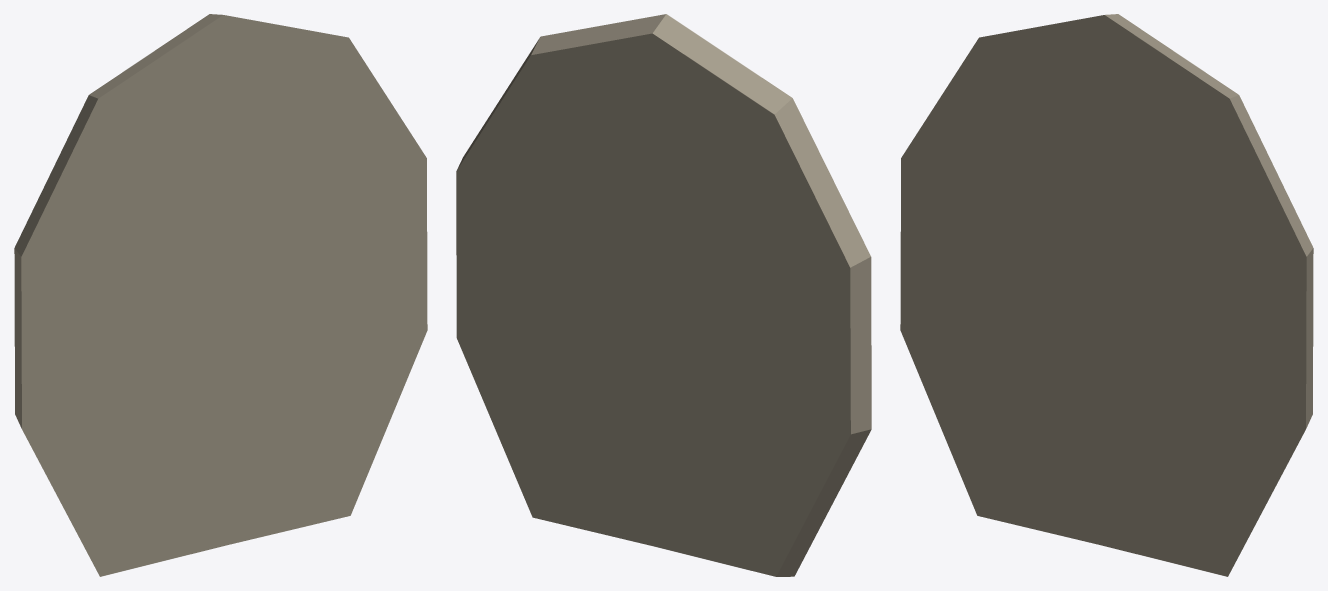
Rendered from SM_Prop_Toilet_01_Lid.glb.
3 views of the same model, side by side, from view 1: azimuth 30°, elevation 25°; view 2: azimuth 150°, elevation 25°; view 3: azimuth 330°, elevation 25° (orthographic).
Parts seen in each view (by area): view 1: SM_Prop_Toilet_01_Lid; view 2: SM_Prop_Toilet_01_Lid; view 3: SM_Prop_Toilet_01_Lid.
Boxes of the visible parts, bbox=[...] form: SM_Prop_Toilet_01_Lid: bbox=[14, 14, 427, 576]; SM_Prop_Toilet_01_Lid: bbox=[456, 14, 871, 576]; SM_Prop_Toilet_01_Lid: bbox=[900, 14, 1313, 576].
Bounding box in the file's own units: 0.4129 × 0.5158 × 0.0277.
Materials: 1 (1 with a texture image).
